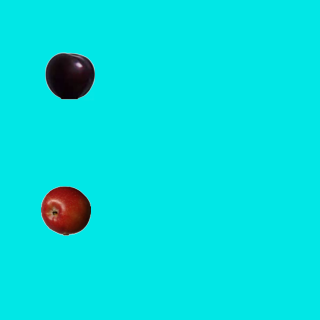Apple Braeburn: (40, 185, 90, 235)
Cherry Wax Black: (44, 50, 94, 100)
